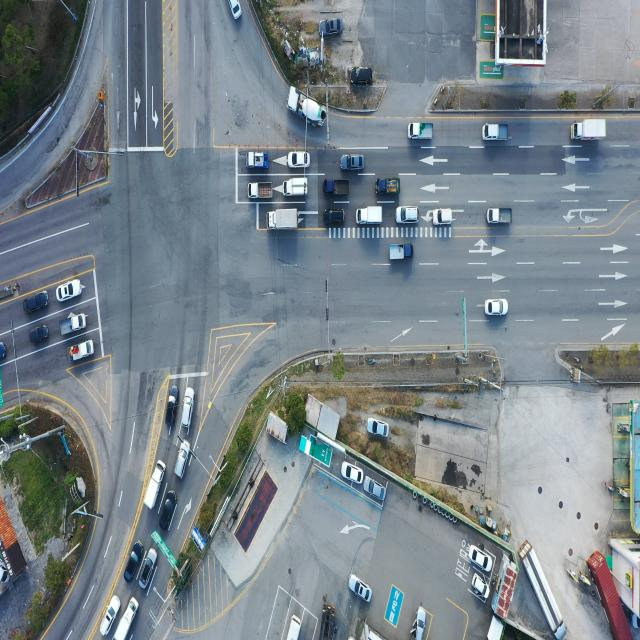car: (101, 595, 121, 635), (139, 548, 158, 590), (126, 542, 143, 583), (160, 495, 178, 533), (175, 439, 191, 481), (349, 575, 372, 604), (164, 388, 177, 434), (57, 280, 82, 303), (365, 478, 387, 504), (181, 388, 194, 429), (26, 292, 50, 314), (469, 548, 490, 572), (349, 66, 374, 86), (412, 607, 427, 640), (471, 575, 489, 602), (342, 462, 364, 484), (366, 418, 388, 439), (319, 19, 343, 38), (326, 209, 348, 228), (342, 155, 365, 173), (287, 152, 309, 170), (396, 207, 418, 225), (486, 300, 508, 317), (430, 209, 452, 226), (30, 326, 50, 344), (227, 0, 243, 21), (0, 342, 6, 362)
medium_truck: (522, 540, 567, 637), (286, 85, 326, 126), (266, 206, 300, 231), (571, 118, 606, 141), (322, 606, 338, 640)
small_bus: (283, 615, 302, 640)
small_truck: (144, 458, 165, 510), (118, 596, 140, 638), (59, 313, 86, 336), (71, 340, 96, 363), (357, 206, 384, 227), (408, 122, 434, 142), (282, 178, 307, 198), (483, 125, 509, 144), (248, 180, 272, 200), (390, 241, 415, 260), (326, 181, 352, 199), (487, 207, 511, 226), (247, 150, 270, 169), (375, 177, 399, 195)
